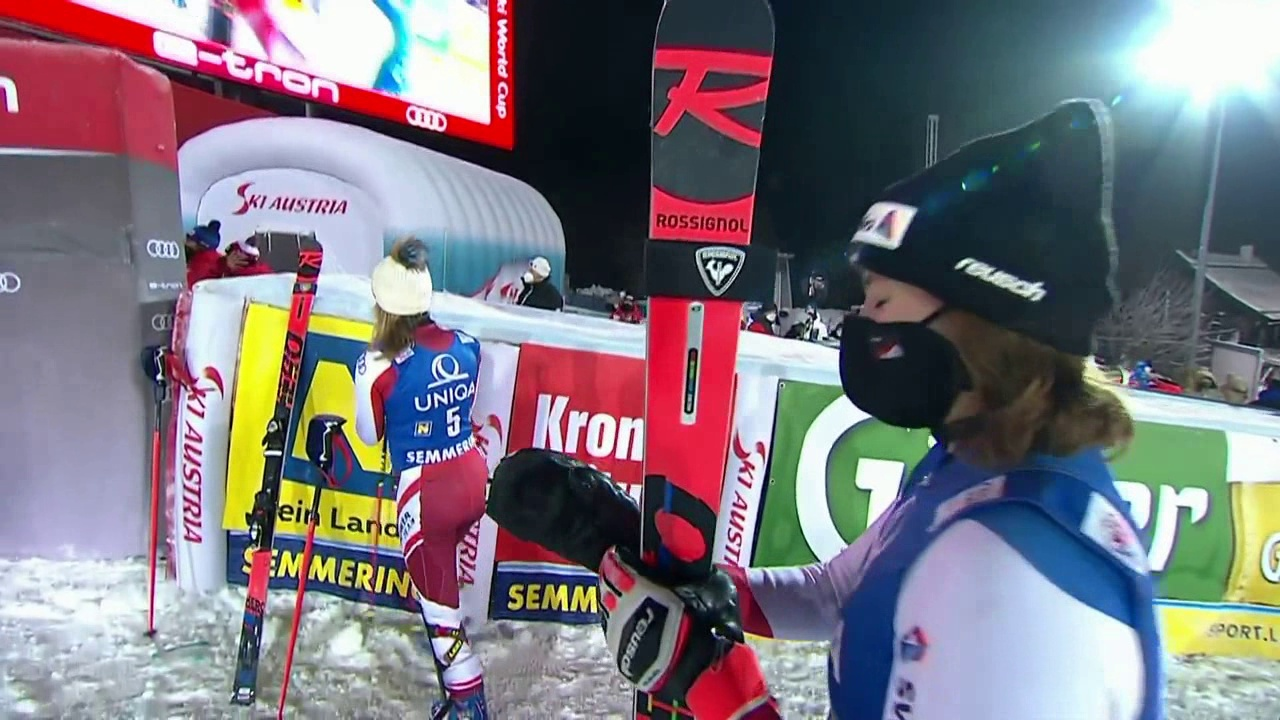audi: (399, 100, 453, 138), (138, 238, 188, 266), (1, 267, 31, 304)
kronenzeitung: (523, 372, 649, 495)
uniqa: (421, 352, 477, 421)
